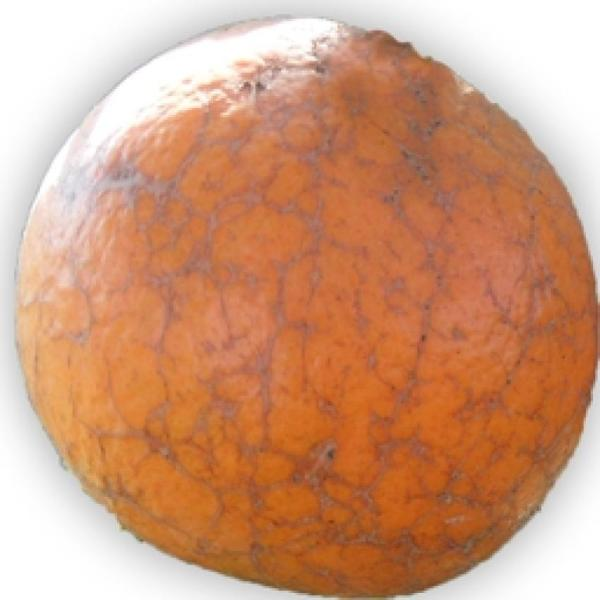Canker: (13, 0, 599, 599)
